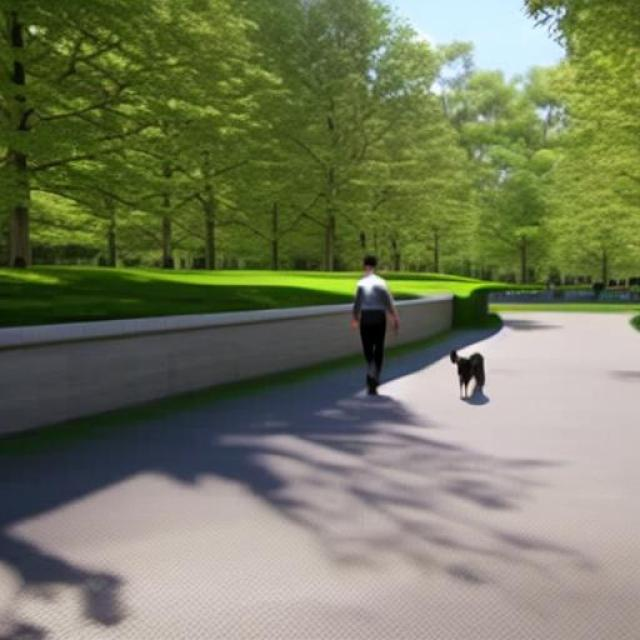Unleashed_Dog: (364, 314, 486, 401)
